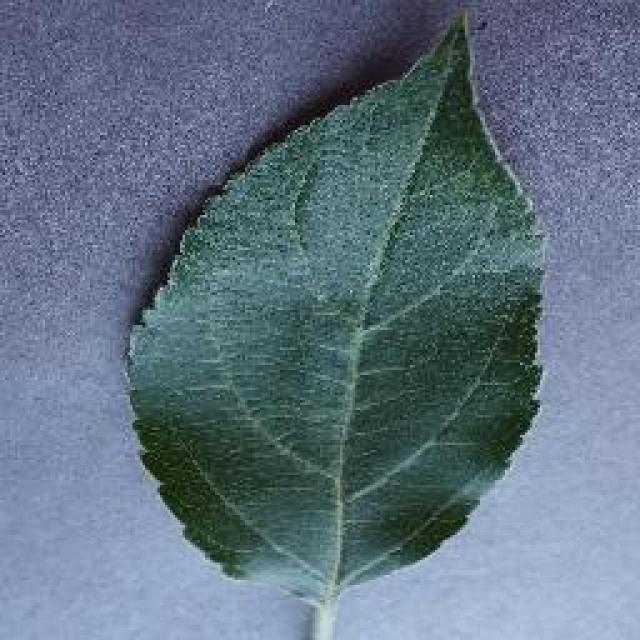Apple___healthy: (122, 10, 565, 602)
